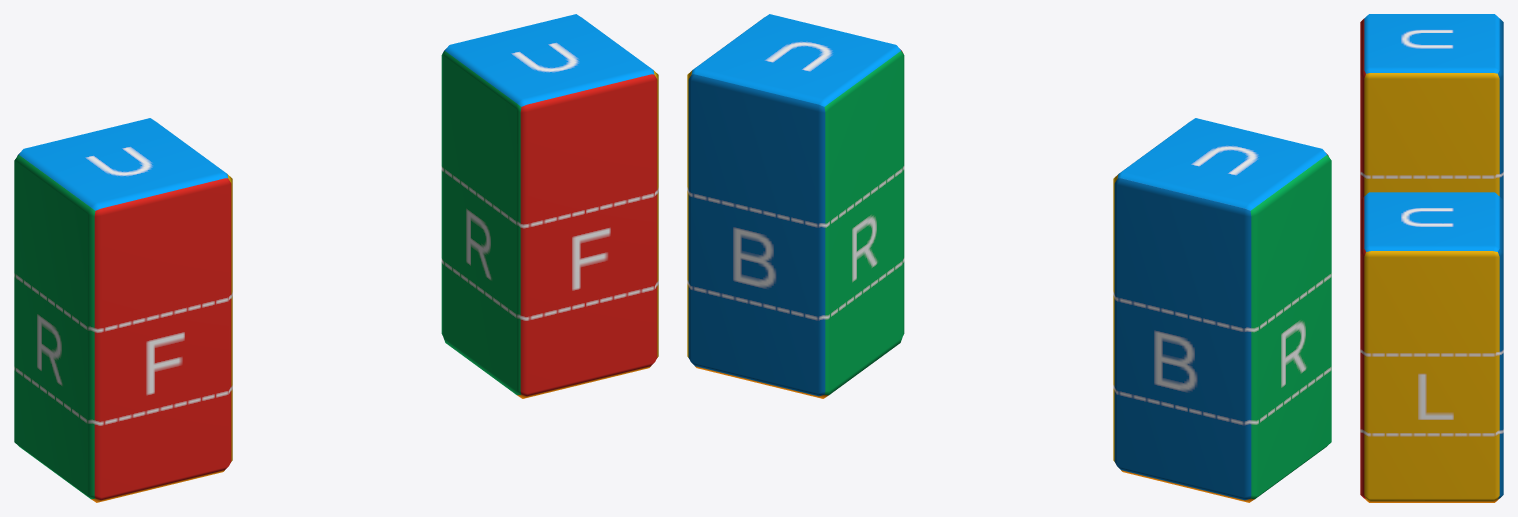
File: Blocky_Hands.glb
The picture shows the model from 3 angles, left to right: view 1: azimuth 30°, elevation 25°; view 2: azimuth 150°, elevation 25°; view 3: azimuth 270°, elevation 25°; orthographic projection. The views are drawn at different scales.
Parts seen in each view (by area): view 1: Cube.013; view 2: Cube.013; view 3: Cube.013.
Part boxes in pixels (x1,y1,x2,y2): Cube.013: (14,14,658,502); Cube.013: (687,14,1331,502); Cube.013: (1360,14,1503,502).
Size of the model in its own units: 4.02 by 2.02 by 1.02.
Materials: 1 (1 with a texture image).
